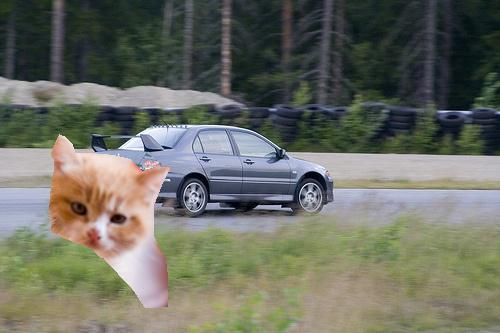tampered: (50, 135, 170, 308)
